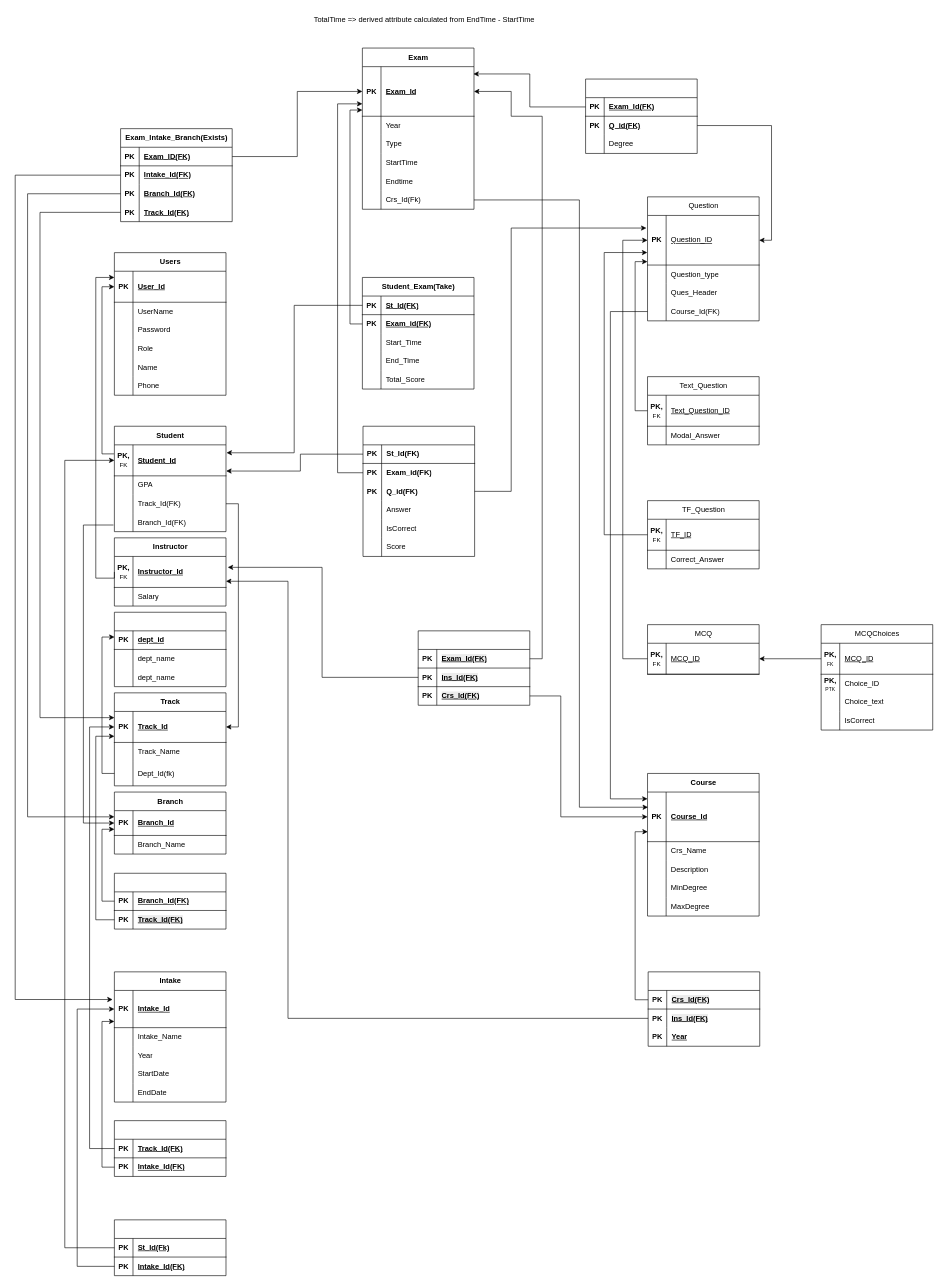
The diagram is 944 pixels wide and 1287 high, and some of its shapes have lost their labels. The shapes that lost their labels are listed below. From the top down, each one's box as (x1, y1, x2, y2) in pixels, then its label:
(585, 78, 697, 153): Exam_Question(Contains)
(362, 426, 475, 556): Student_Answer
(114, 612, 226, 687): Department
(418, 630, 530, 705): Instructor_Exam(Make)
(114, 873, 226, 929): Branch_Track
(648, 971, 760, 1046): Instructor_Course(Teaches)
(114, 1120, 226, 1176): Track_Intake
(114, 1219, 226, 1276): Student_Intake
